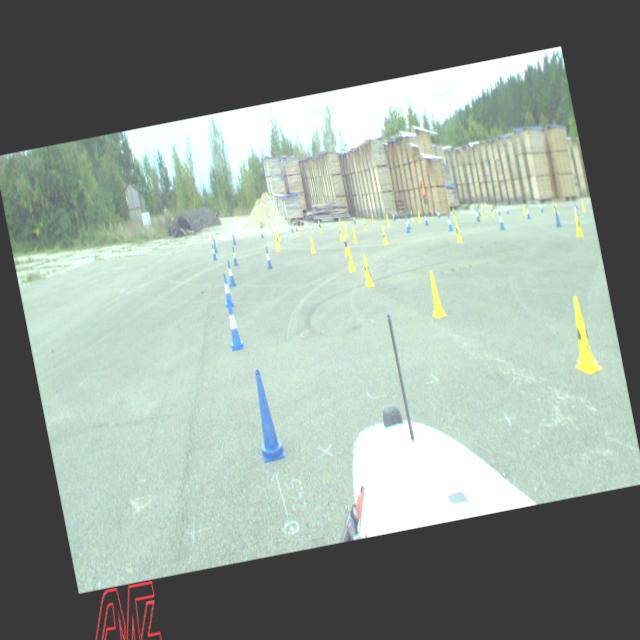blue_cone: (247, 368, 286, 462), (222, 299, 245, 351), (220, 272, 234, 308), (224, 259, 237, 287), (264, 246, 274, 270), (552, 207, 562, 228), (496, 210, 506, 230), (230, 246, 238, 266), (446, 214, 454, 232), (404, 217, 411, 233), (210, 244, 217, 260), (423, 212, 430, 227), (572, 202, 579, 216), (524, 204, 530, 220), (406, 214, 411, 230), (213, 239, 218, 253), (505, 203, 510, 214), (476, 209, 480, 222), (232, 233, 236, 246), (436, 208, 441, 218), (392, 210, 396, 222), (477, 205, 481, 216), (260, 228, 264, 238), (353, 214, 357, 224), (290, 222, 294, 232), (540, 202, 544, 212)
yellow_cone: (562, 293, 603, 376), (424, 269, 446, 319), (360, 253, 376, 288), (572, 211, 584, 237), (345, 245, 356, 273), (453, 220, 463, 243), (379, 225, 388, 246), (308, 234, 317, 254), (342, 235, 349, 258), (351, 227, 358, 245), (274, 235, 280, 252), (338, 226, 344, 242), (362, 218, 368, 231), (294, 224, 300, 237), (416, 210, 422, 223), (276, 229, 282, 242), (344, 223, 349, 238), (480, 207, 486, 219), (317, 221, 322, 233), (385, 214, 390, 226), (581, 200, 586, 212), (276, 232, 280, 246), (370, 213, 375, 224), (521, 204, 526, 215), (490, 205, 494, 218), (410, 210, 414, 222), (552, 202, 556, 214), (555, 202, 559, 214), (338, 217, 342, 228), (452, 208, 456, 218)
